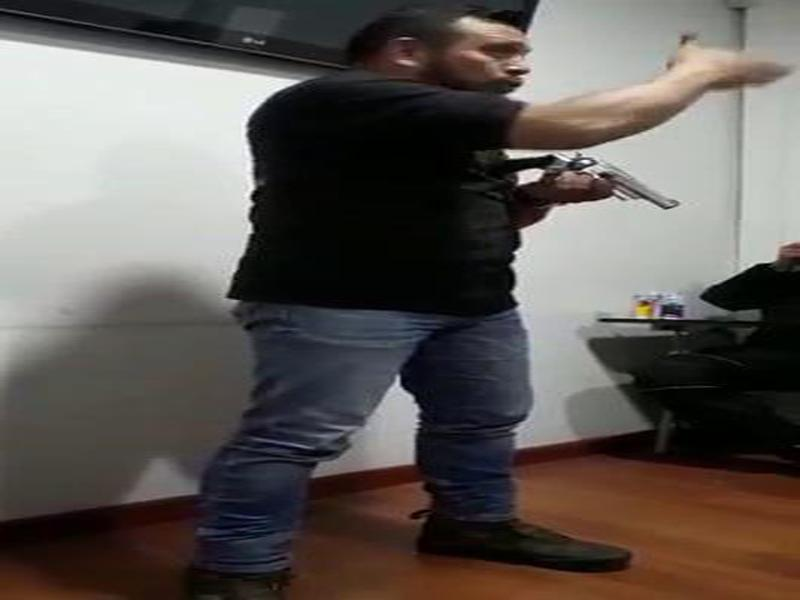Revolver: (497, 122, 707, 251)
